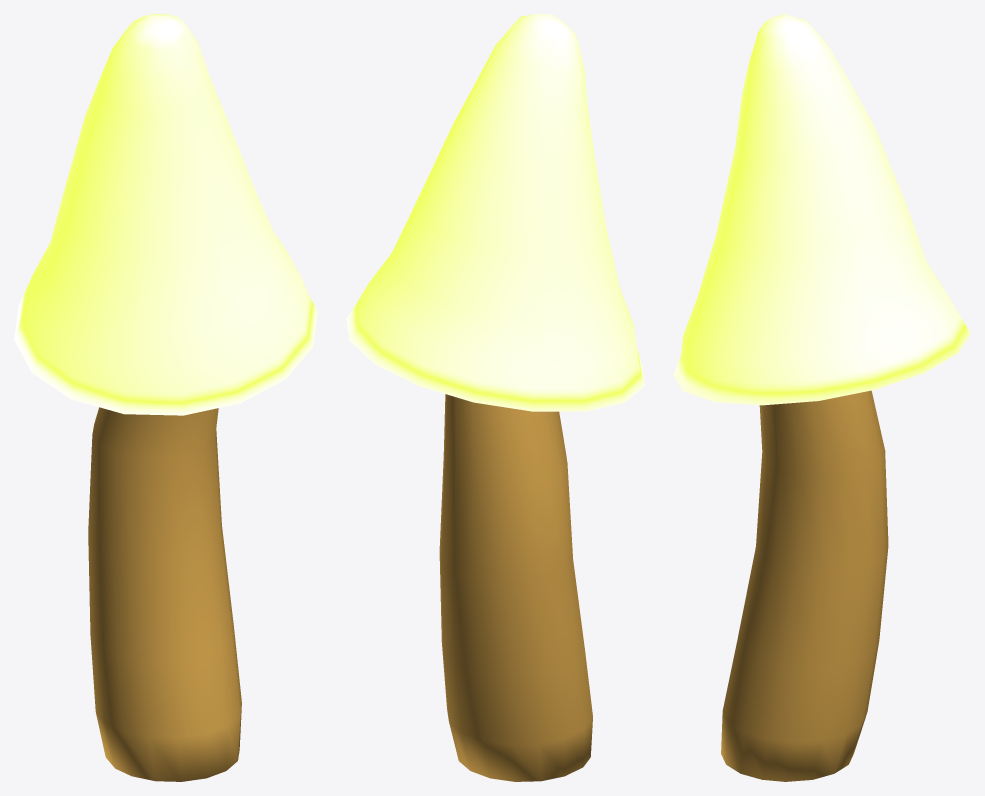
Rendered from cosgurmelocolorido4.fbx.
The picture shows the model from 3 angles, left to right: view 1: azimuth 30°, elevation 25°; view 2: azimuth 150°, elevation 25°; view 3: azimuth 270°, elevation 25°; orthographic projection.
Visible parts, largest first — view 1: cogumelo3; view 2: cogumelo3; view 3: cogumelo3.
Part boxes in pixels (left/top/right/bottom): cogumelo3: left=14, top=14, right=317, bottom=781; cogumelo3: left=346, top=14, right=644, bottom=781; cogumelo3: left=673, top=14, right=970, bottom=781.
Bounding box in the file's own units: 72.43 × 195 × 72.17.
